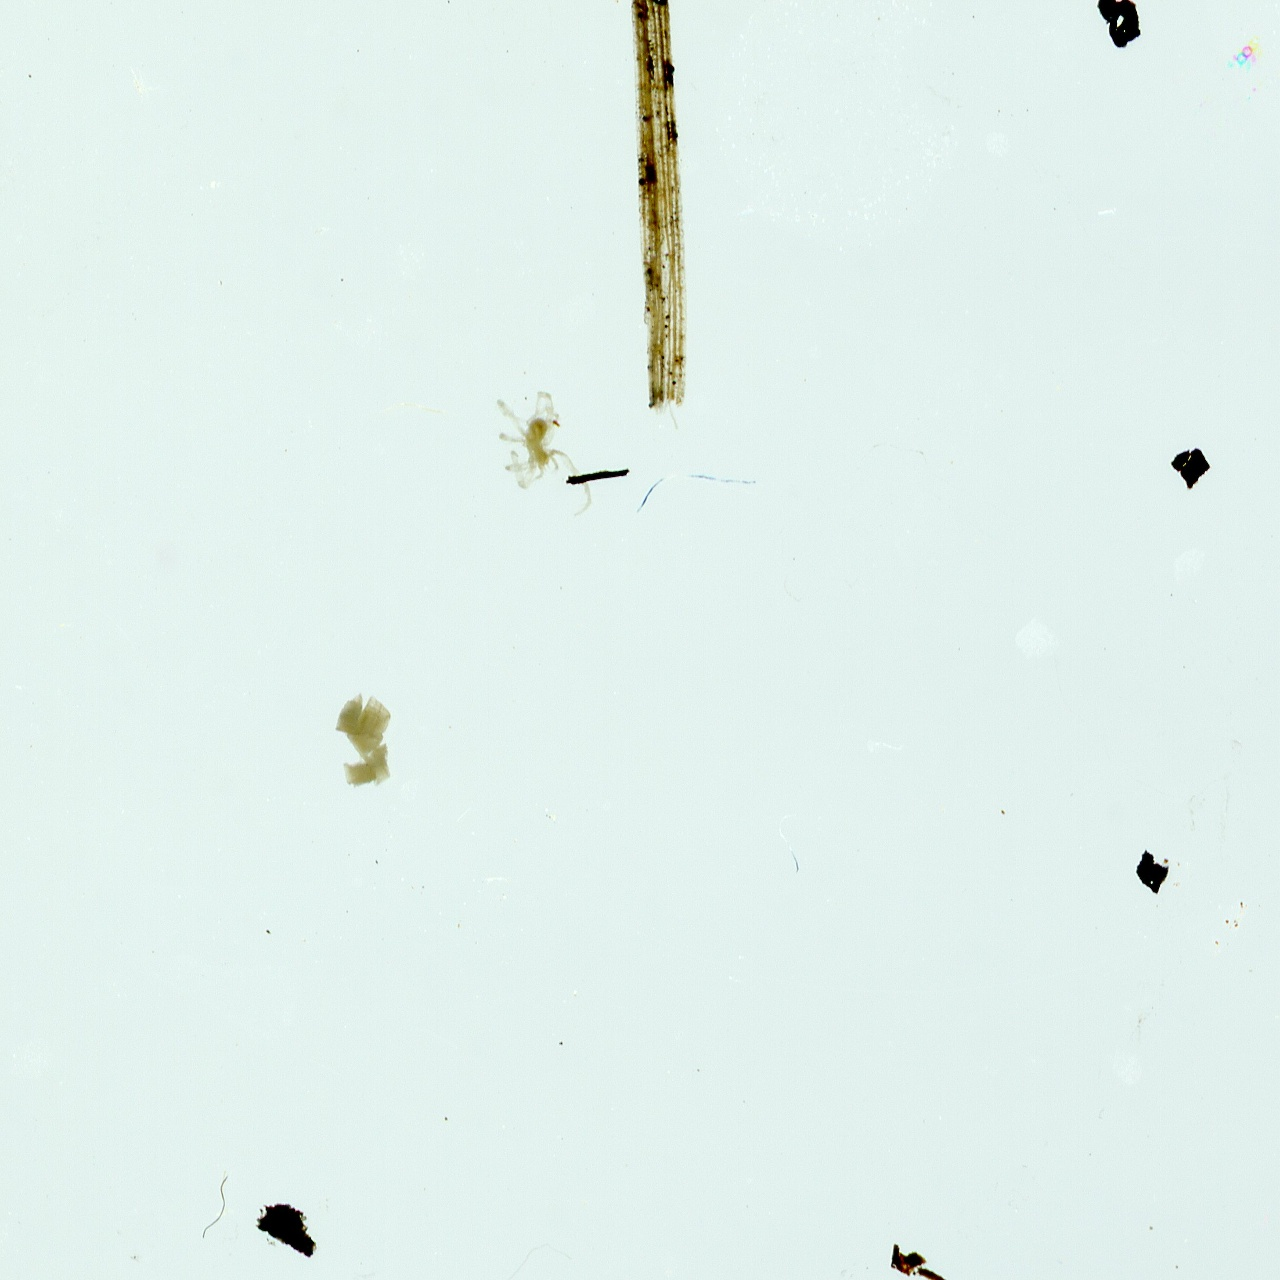arthropod: (481, 379, 604, 523)
